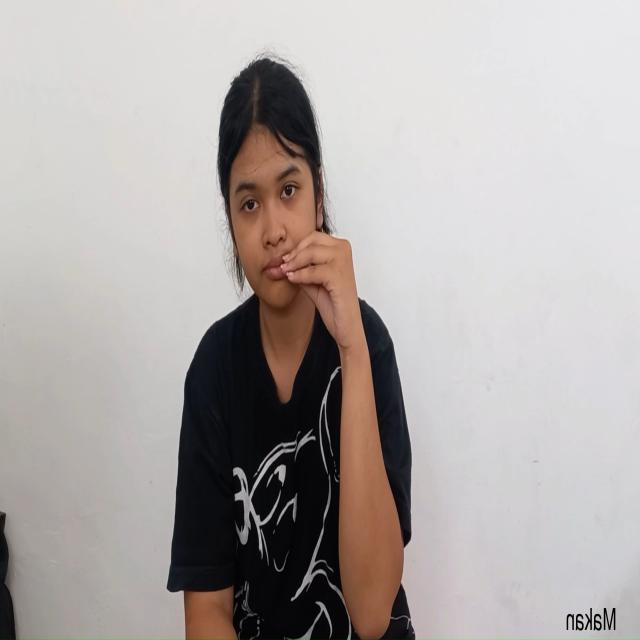Makan -BISINDO-: (211, 56, 362, 401)
